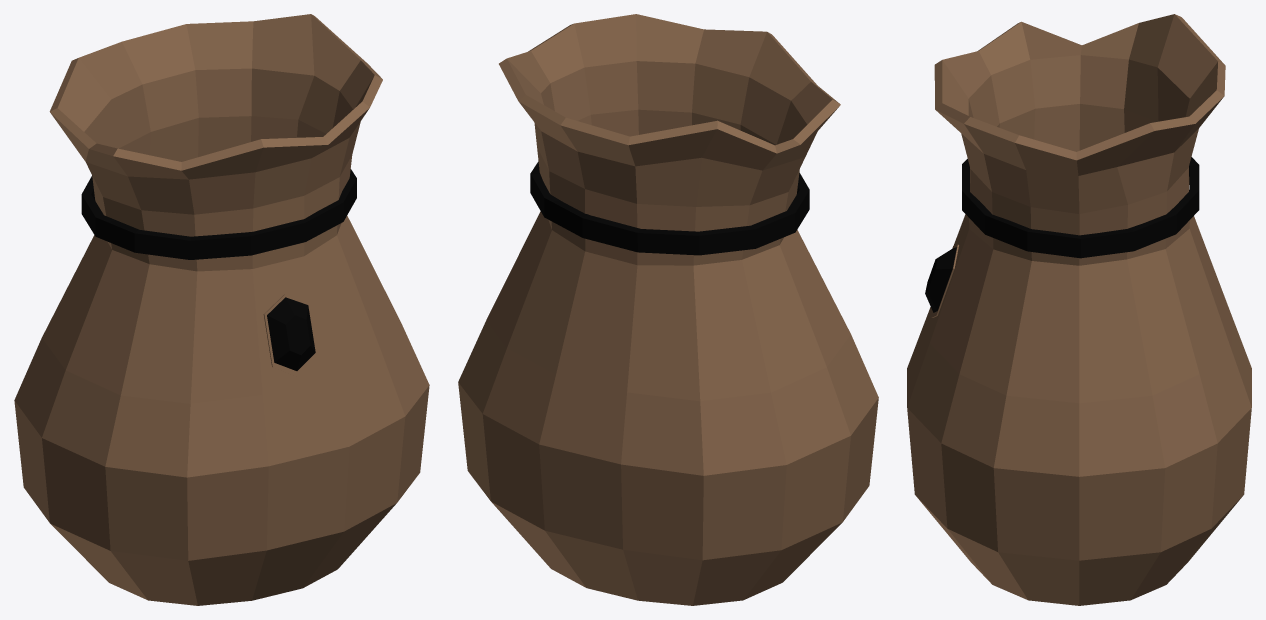
Rendered from PP_Money_Bag_Empty_02.fbx.
The picture shows the model from 3 angles, left to right: view 1: azimuth 30°, elevation 25°; view 2: azimuth 150°, elevation 25°; view 3: azimuth 270°, elevation 25°; orthographic projection.
Parts seen in each view (by area): view 1: PP_Money_Bag_Empty_02; view 2: PP_Money_Bag_Empty_02; view 3: PP_Money_Bag_Empty_02.
Part boxes in pixels (x1,y1,x2,y2): PP_Money_Bag_Empty_02: [14, 14, 429, 605]; PP_Money_Bag_Empty_02: [458, 14, 878, 605]; PP_Money_Bag_Empty_02: [907, 14, 1251, 605].
Bounding box in the file's own units: 57.18 × 73.22 × 46.84.
